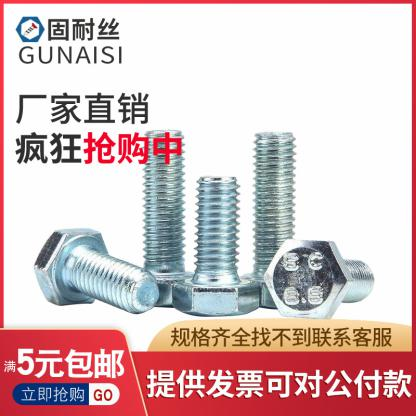FOD: (235, 129, 315, 310), (124, 128, 200, 308), (170, 175, 260, 320), (33, 226, 161, 316), (262, 238, 378, 323)
